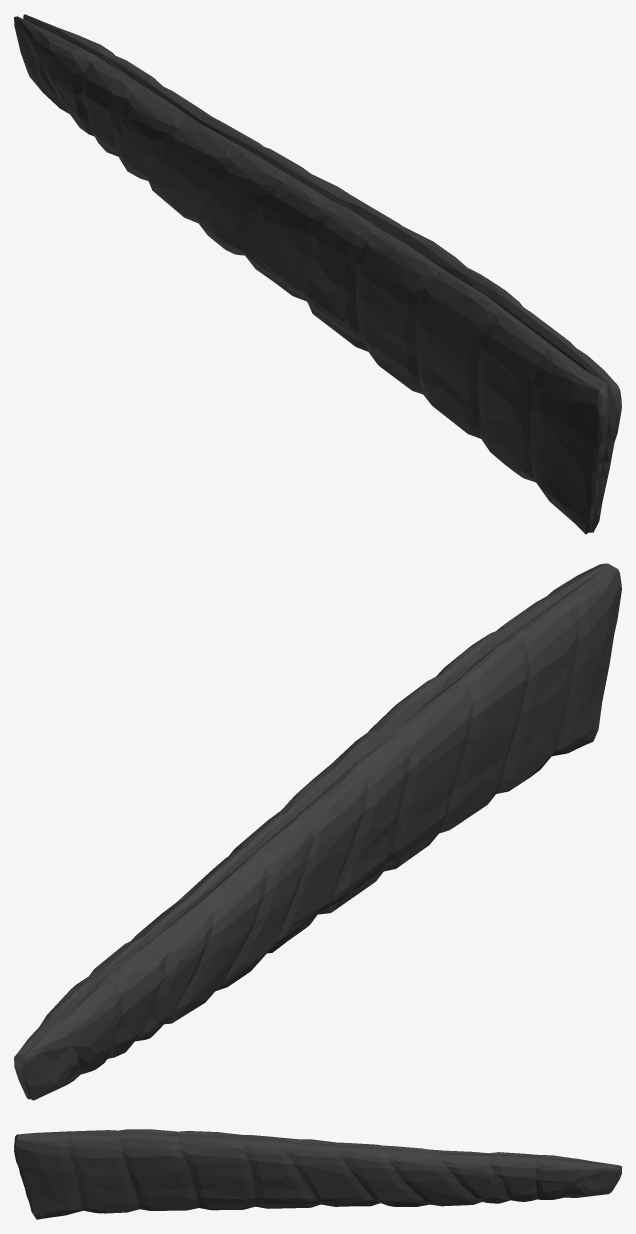
Rendered from m_spinalis_thoracis.glb.
3 views of the same model, one above another, from view 1: azimuth 30°, elevation 25°; view 2: azimuth 150°, elevation 25°; view 3: azimuth 270°, elevation 25° (orthographic). The views are drawn at different scales.
Parts seen in each view (by area): view 1: m_spinalis_thoracis; view 2: m_spinalis_thoracis; view 3: m_spinalis_thoracis.
Boxes of the visible parts, <box> form: m_spinalis_thoracis: <box>14,14,621,534</box>; m_spinalis_thoracis: <box>14,563,621,1100</box>; m_spinalis_thoracis: <box>14,1129,621,1219</box>.
Bounding box in the file's own units: 0.000401 × 0.00113 × 0.00714.
1 material, 1 textured.
